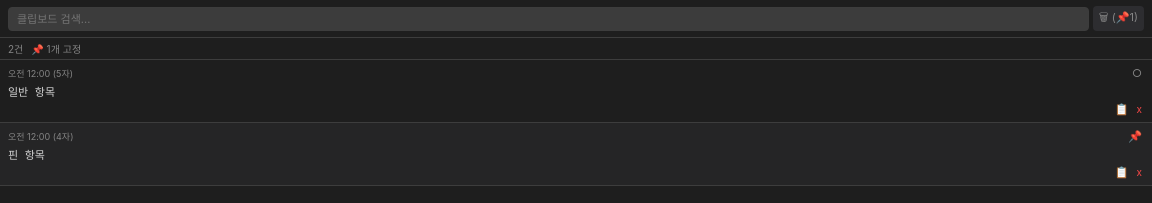
Test: ClipboardPanel › 삭제 버튼 클릭 시 비핀 항목이 모두 삭제된다
Note: 전체/비핀 삭제 버튼
Click the button titled "비핀 삭제 (1개 📌 보호)": (1118, 18) [1093,6,1144,31]
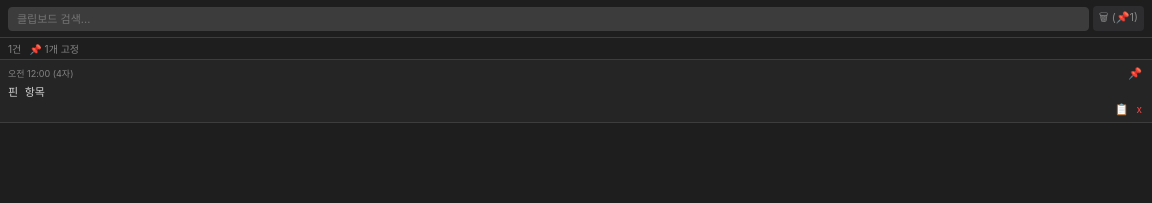
Expected: the text "핀 항목" is shown, [8,86,45,99]
Result: the text "일반 항목" is gone
